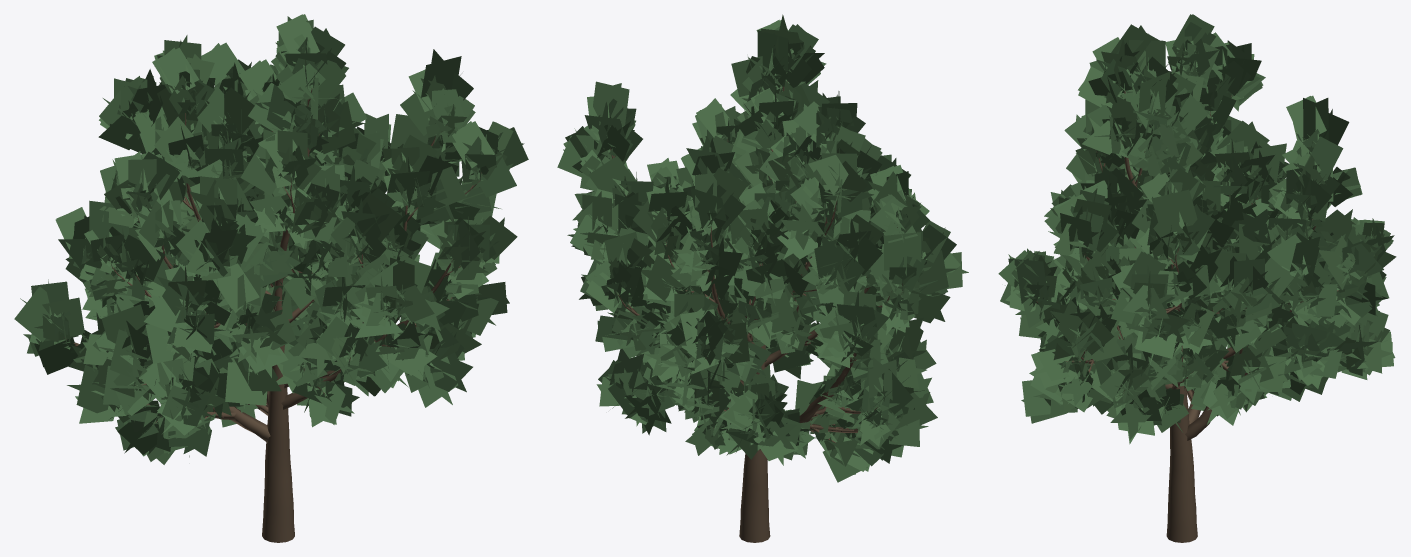
Rendered from tree_oak_mature.glb.
3 renders of one model, left to right at view 1: azimuth 30°, elevation 25°; view 2: azimuth 150°, elevation 25°; view 3: azimuth 270°, elevation 25°, orthographic. The views are drawn at different scales.
Visible parts, largest first — view 1: foliage, trunk; view 2: foliage, trunk; view 3: foliage, trunk.
Part boxes in pixels (x1,y1,x2,y2): foliage: [14, 14, 528, 464]; trunk: [64, 88, 481, 542]; foliage: [557, 14, 968, 482]; trunk: [610, 81, 902, 542]; foliage: [998, 14, 1396, 444]; trunk: [1036, 90, 1345, 542].
Bounding box in the file's own units: 18.83 × 22 × 15.55.
